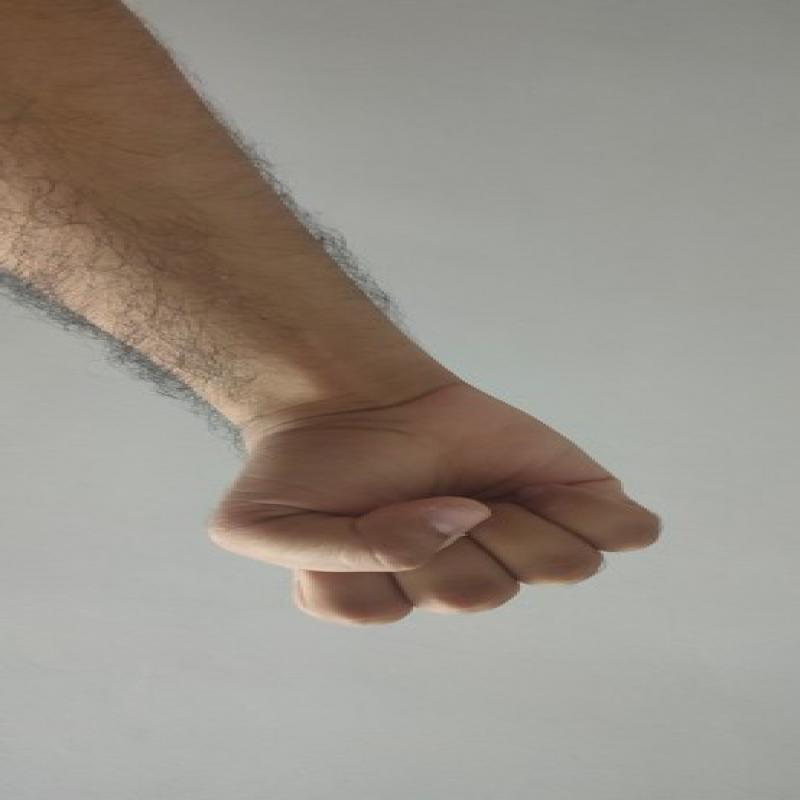Mushti: (194, 369, 678, 642)
